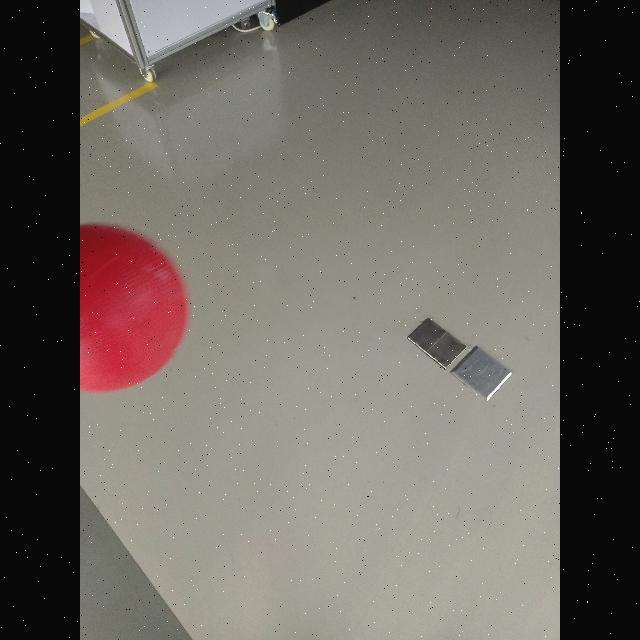R: (80, 225, 182, 397)
